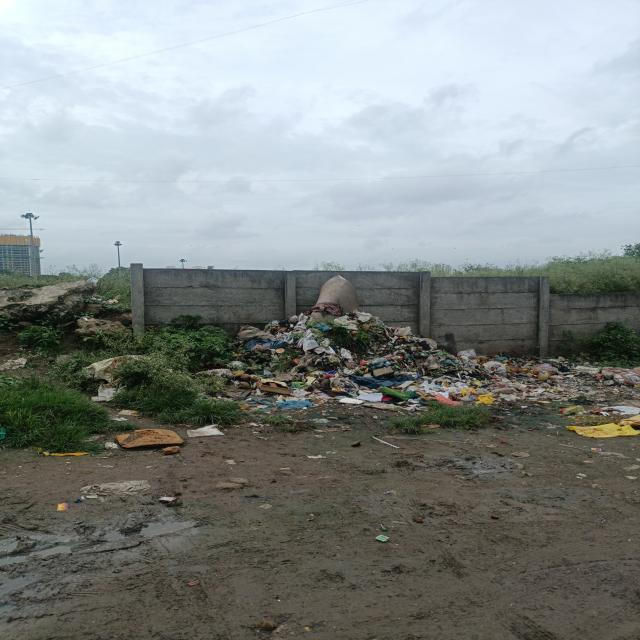garbage: (222, 314, 485, 410), (485, 356, 638, 421)
